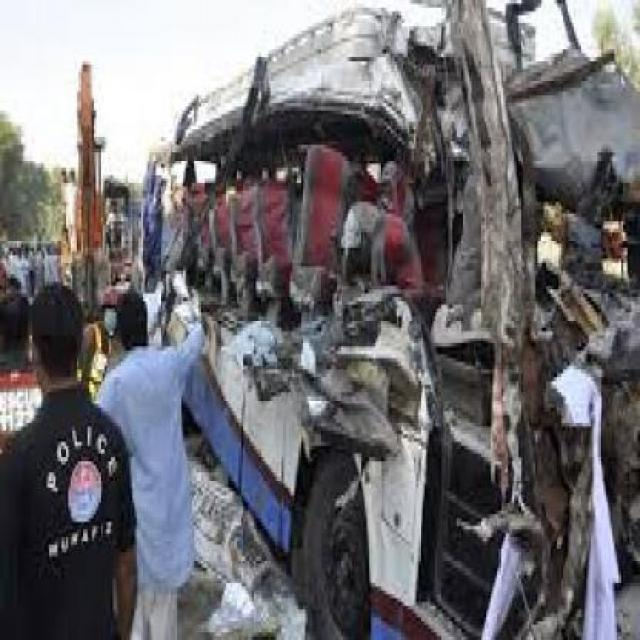accident: (112, 11, 640, 623)
